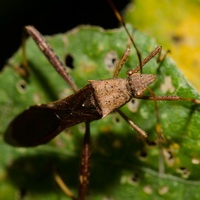insect: (0, 37, 84, 199), (86, 98, 199, 199), (123, 0, 199, 91), (45, 26, 128, 88), (143, 54, 199, 98)
